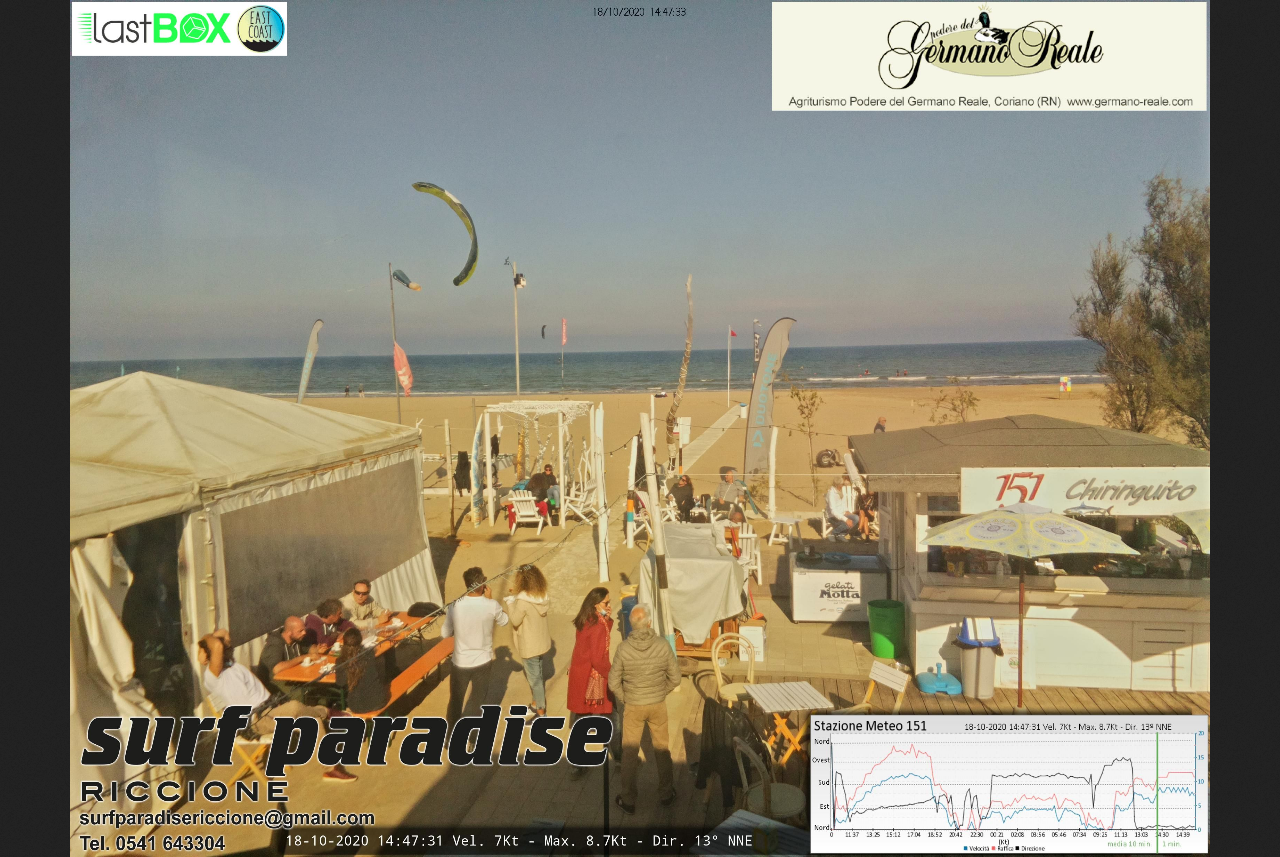maybe: (388, 333, 419, 398)
